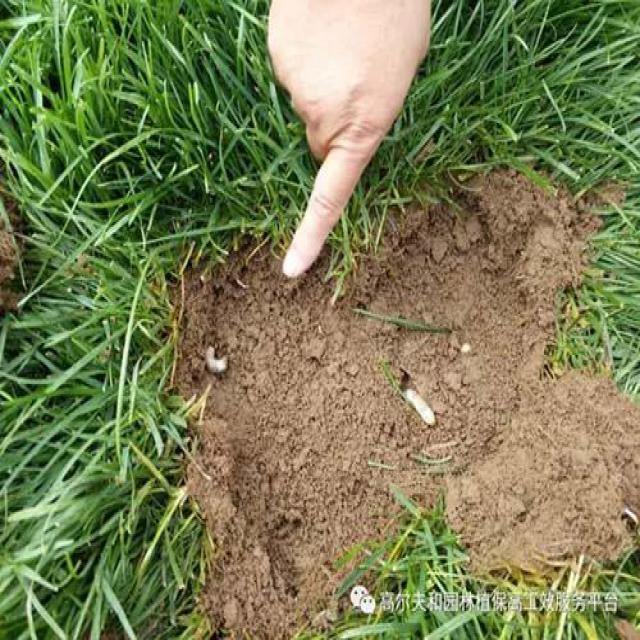Grub-Adult-: (396, 384, 441, 436), (197, 342, 237, 378)
